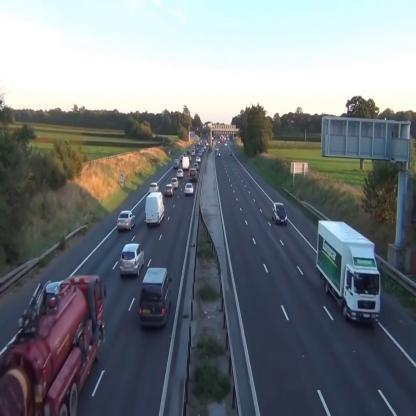car: (119, 242, 144, 274), (272, 203, 288, 225), (118, 210, 135, 230), (164, 184, 174, 196), (184, 183, 194, 195), (150, 182, 158, 194), (172, 178, 178, 188), (177, 169, 183, 177), (174, 161, 178, 168)
lorry: (0, 274, 106, 416), (317, 220, 380, 327), (140, 267, 173, 328), (145, 192, 165, 225), (182, 157, 190, 169), (190, 169, 197, 181)
